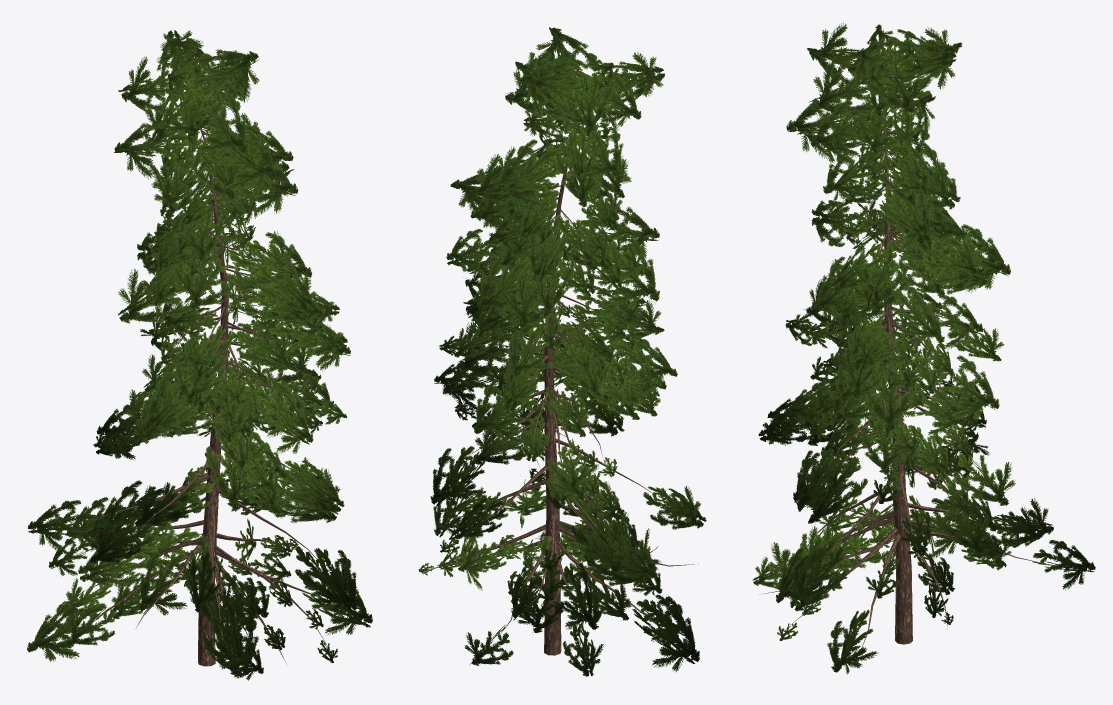
Rendered from terraintale-fir_tree_small.glb.
3 renders of one model, left to right at view 1: azimuth 30°, elevation 25°; view 2: azimuth 150°, elevation 25°; view 3: azimuth 270°, elevation 25°, orthographic. The views are drawn at different scales.
Parts seen in each view (by area): view 1: fir_tree_small; view 2: fir_tree_small; view 3: fir_tree_small.
Boxes of the visible parts, <box> form: fir_tree_small: <box>27,30,372,680</box>; fir_tree_small: <box>418,27,706,676</box>; fir_tree_small: <box>752,22,1095,674</box>.
Bounding box in the file's own units: 1.45 × 2.77 × 1.43.
2 materials, 2 textured.
